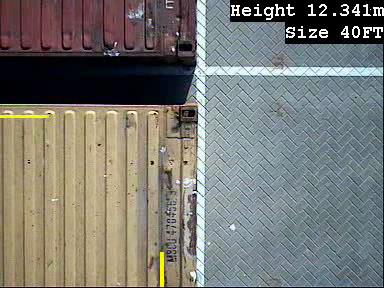groundmarker_2: (198, 39, 236, 106), (199, 244, 231, 288)
